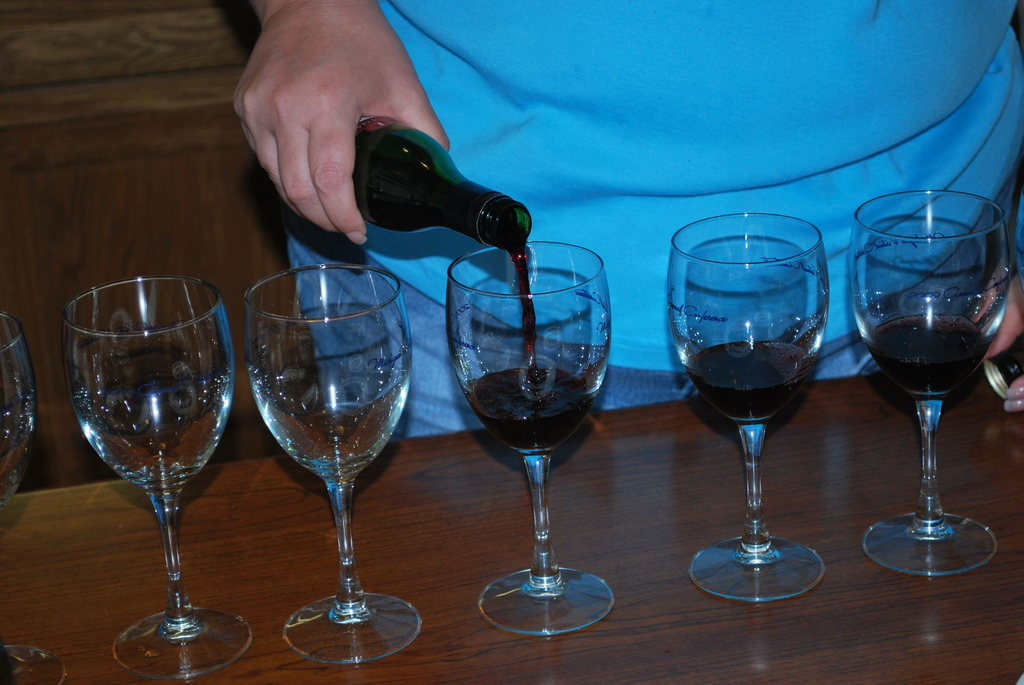can: (358, 115, 534, 253)
